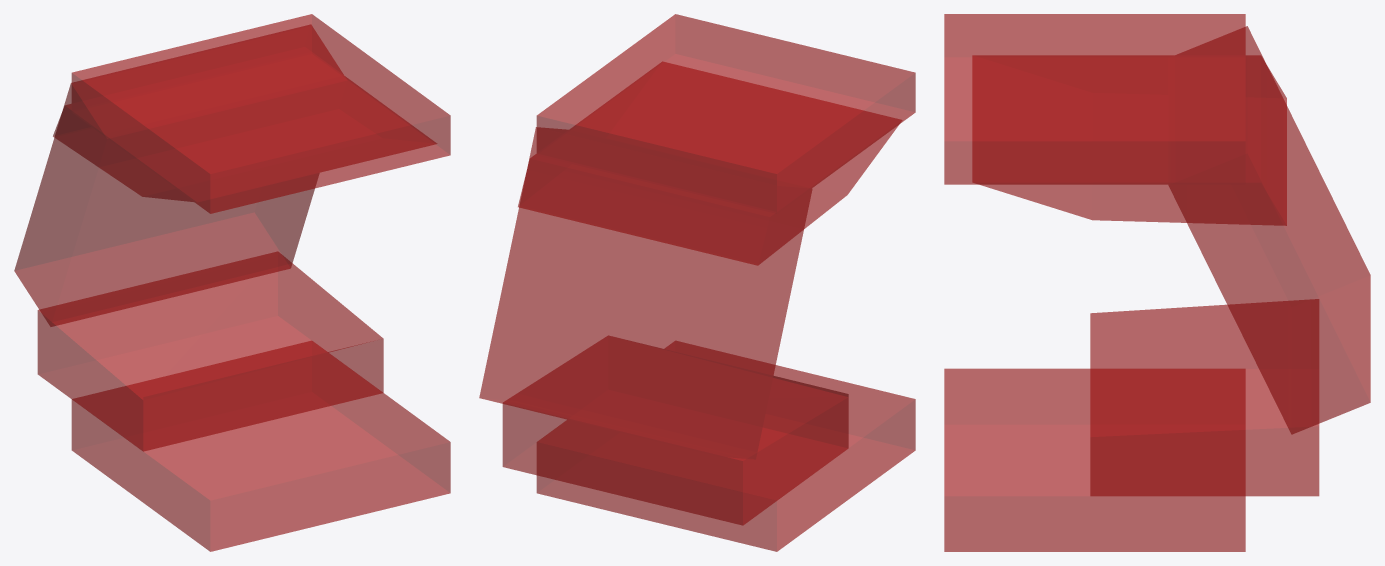
File: SM_Env_Motorway_Tunnel_Destroyed_Middle_01_Collision.fbx
3 renders of one model, left to right at view 1: azimuth 30°, elevation 25°; view 2: azimuth 150°, elevation 25°; view 3: azimuth 270°, elevation 25°, orthographic. The views are drawn at different scales.
Parts seen in each view (by area): view 1: SM_Env_Motorway_Tunnel_Destroyed_Middle_01_Collision; view 2: SM_Env_Motorway_Tunnel_Destroyed_Middle_01_Collision; view 3: SM_Env_Motorway_Tunnel_Destroyed_Middle_01_Collision.
Boxes of the visible parts, x1,y1,x2,y2 form: SM_Env_Motorway_Tunnel_Destroyed_Middle_01_Collision: (14, 14, 450, 551); SM_Env_Motorway_Tunnel_Destroyed_Middle_01_Collision: (479, 14, 915, 551); SM_Env_Motorway_Tunnel_Destroyed_Middle_01_Collision: (944, 14, 1370, 551).
Bounding box in the file's own units: 500 × 751 × 707.
